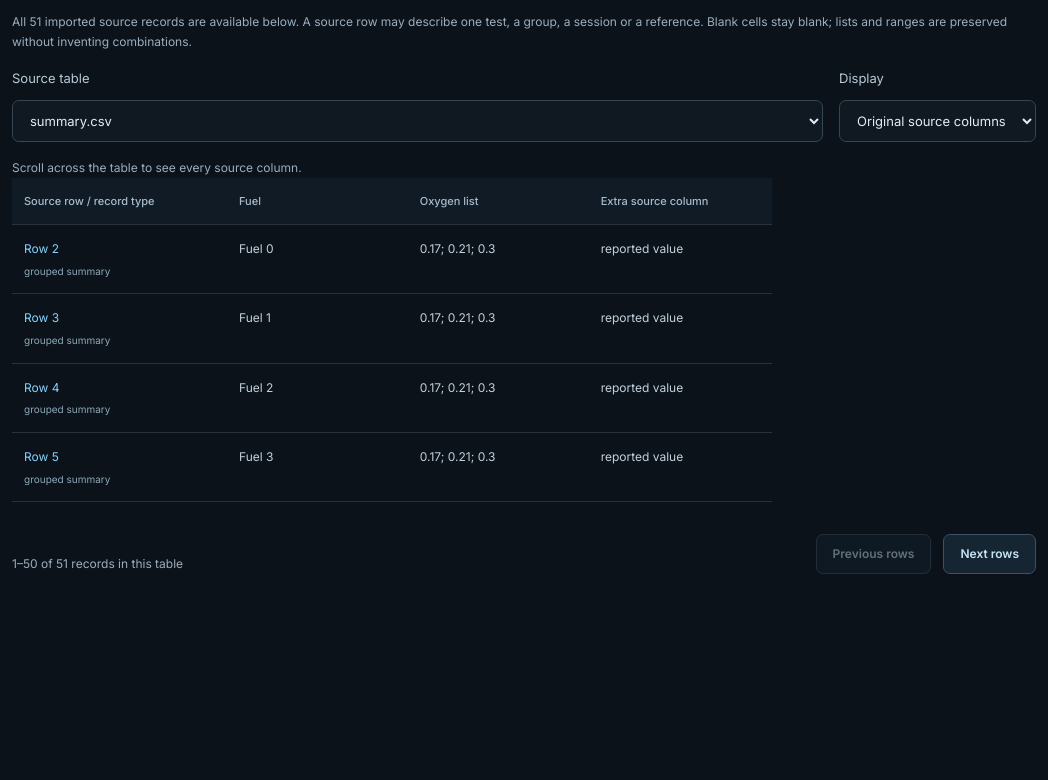
Test: retains partial source cells, ranges and every row beyond the first page
Expected: the column heading "Extra source column" is shown, [589,178,772,224]
Expected: the text "Fuel 50" is not shown
Click the button "Next rows" at (990, 554), box [944,534,1036,574]
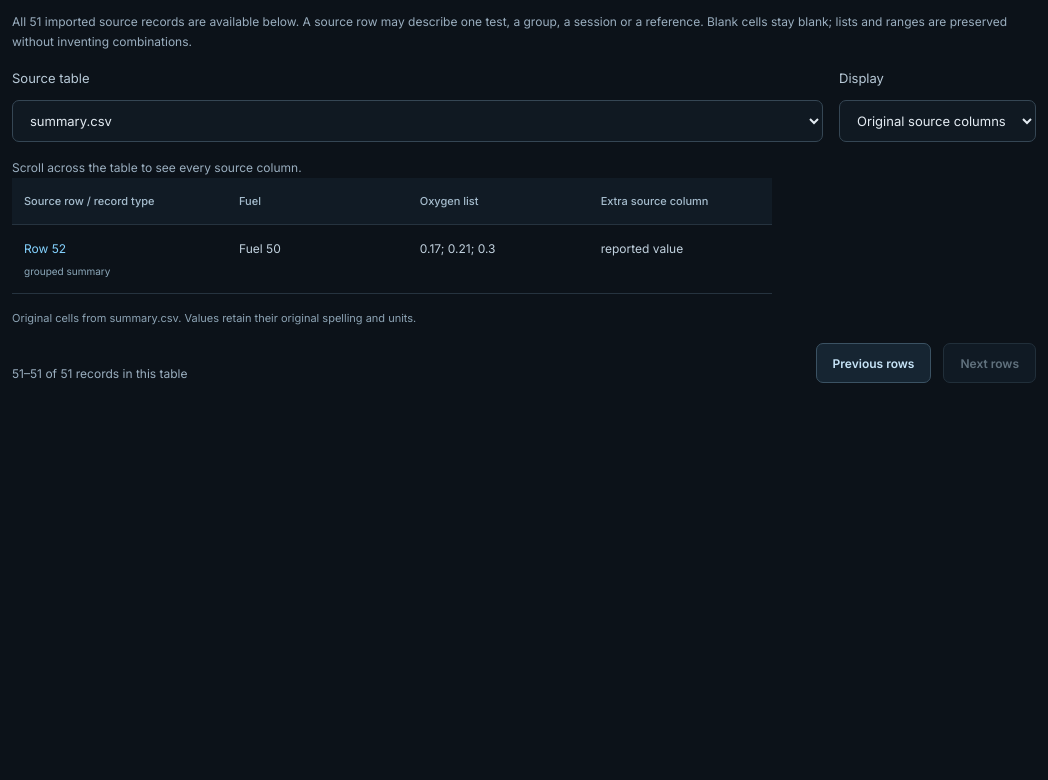
Expected: the text "grouped summary" is shown, [24,265,110,277]
Result: the text "Fuel 50" is shown at [227,224,408,294]
Result: the button "Next rows" is disabled at [944,343,1036,383]
Select "Standardized fields" in the dropdown labelled "Display" at (938, 121), box [839,100,1036,142]
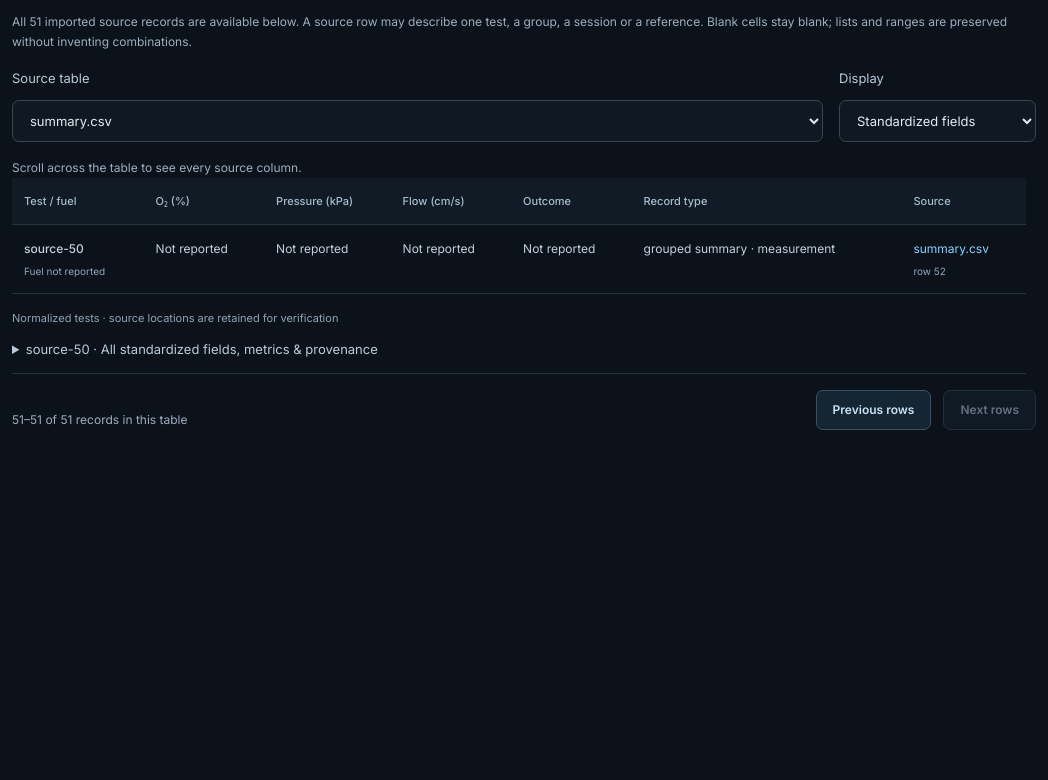
Result: the heading "source-50 · All standardized fields, metrics & provenance" is shown at [26,341,378,357]
